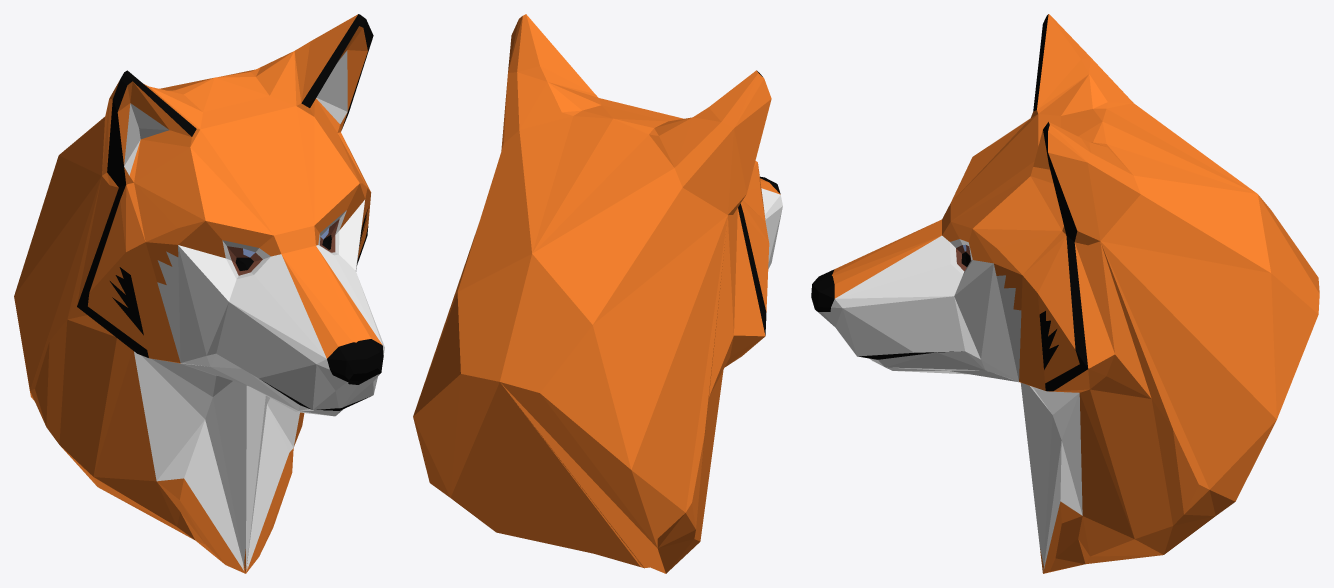
The model's file is wolfHead.glb.
3 views of the same model, side by side, from view 1: azimuth 30°, elevation 25°; view 2: azimuth 150°, elevation 25°; view 3: azimuth 270°, elevation 25° (orthographic). The views are drawn at different scales.
Visible parts, largest first — view 1: wolf head; view 2: wolf head; view 3: wolf head.
Part boxes in pixels (<box>): wolf head: <box>14,14,384,573</box>; wolf head: <box>413,14,782,573</box>; wolf head: <box>811,14,1319,573</box>.
Size of the model in its own units: 15.13 by 26.36 by 24.
